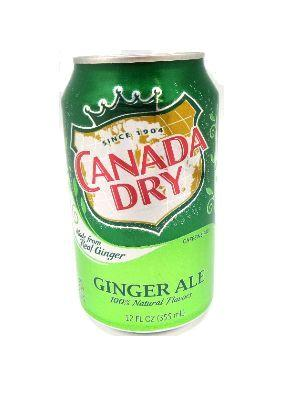Lata: (59, 45, 222, 340)
